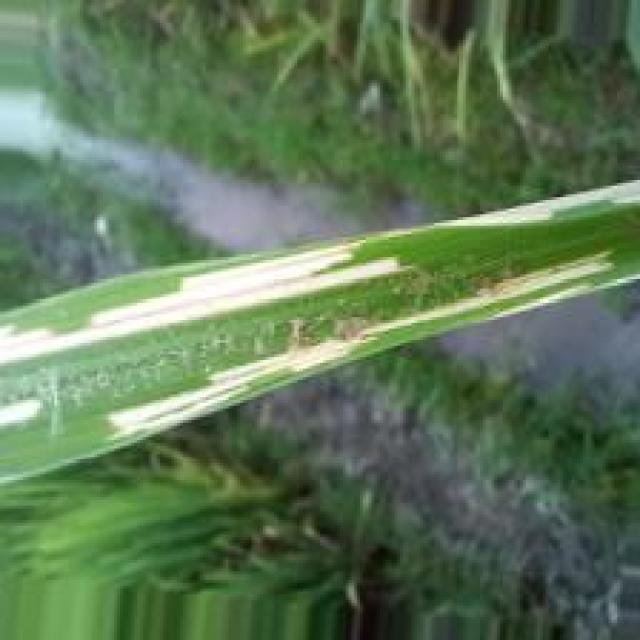Rice_Hispa: (104, 241, 614, 440), (0, 238, 408, 369), (3, 396, 45, 427)
